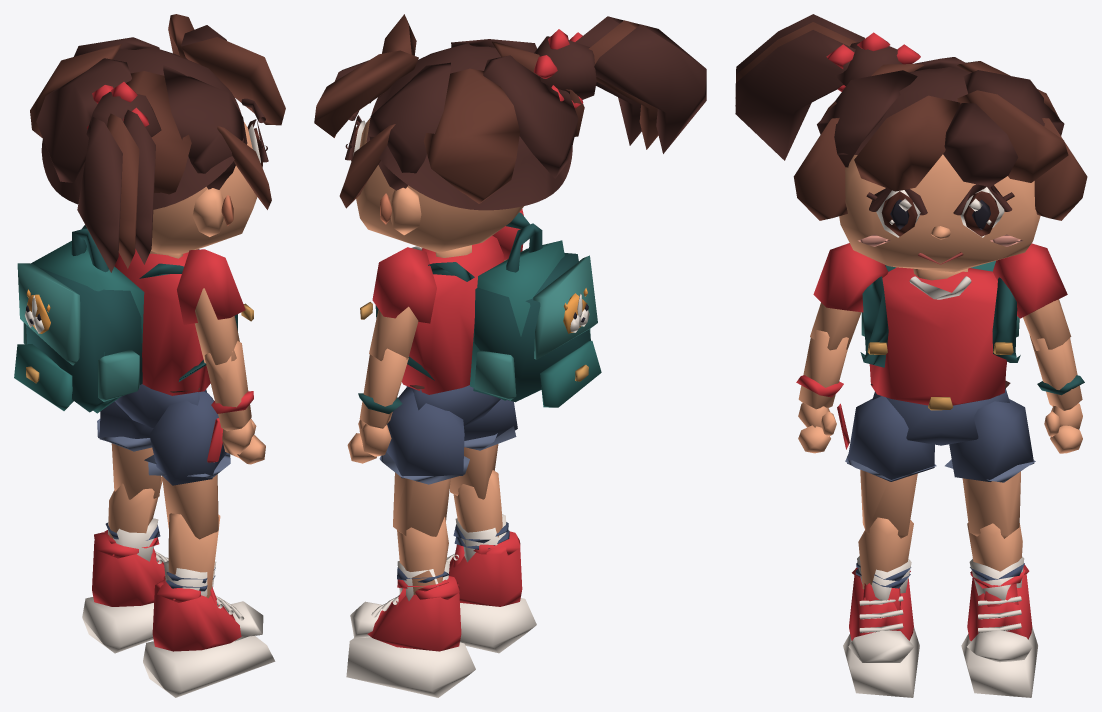
The model's file is char.survivor-female.lod1.glb.
3 renders of one model, left to right at view 1: azimuth 30°, elevation 25°; view 2: azimuth 150°, elevation 25°; view 3: azimuth 270°, elevation 25°, orthographic. The views are drawn at different scales.
Parts seen in each view (by area): view 1: head, footR, torso, legR, backpackSocket.pal_tealDark, footL, backpackSocket.pal_tealLight, armR, backpackSocket.pal_backpackTeal, legL, shinR, shinL (+4 smaller); view 2: head, footL, torso, legL, footR, backpackSocket.pal_tealDark, backpackSocket.pal_backpackTeal, armL, backpackSocket.pal_tealLight, legR, shinR, shinL (+3 smaller); view 3: head, torso, legL, legR, footR, footL, armL, armR, hip, shinR, shinL, foreArmR (+3 smaller).
Boxes of the visible parts, box(x1,y1,x2,y2) form: head: box(30, 14, 285, 272); footR: box(143, 576, 275, 697); torso: box(81, 225, 253, 395); legR: box(144, 391, 230, 539); backpackSocket.pal_tealDark: box(26, 228, 142, 412); footL: box(82, 532, 168, 653); backpackSocket.pal_tealLight: box(17, 263, 139, 401); armR: box(177, 249, 245, 364); backpackSocket.pal_backpackTeal: box(14, 241, 144, 413); legL: box(97, 401, 161, 499); shinR: box(164, 513, 220, 598); shinL: box(104, 477, 162, 561); head: box(314, 14, 706, 257); footL: box(346, 576, 475, 697); torso: box(360, 212, 530, 394); legL: box(379, 387, 469, 536); footR: box(446, 531, 536, 653); backpackSocket.pal_tealDark: box(473, 223, 590, 402); backpackSocket.pal_backpackTeal: box(470, 240, 601, 407); armL: box(369, 247, 436, 360); backpackSocket.pal_tealLight: box(474, 255, 597, 400); legR: box(449, 399, 517, 499); shinR: box(453, 470, 509, 562); shinL: box(397, 517, 449, 600); head: box(735, 14, 1087, 280); torso: box(860, 267, 1020, 405); legL: box(945, 399, 1035, 538); legR: box(845, 396, 936, 538); footR: box(843, 567, 919, 697); footL: box(961, 564, 1037, 697); armL: box(992, 243, 1071, 350); armR: box(810, 243, 888, 350); hip: box(837, 381, 1010, 449); shinR: box(855, 517, 913, 600); shinL: box(967, 523, 1025, 600); foreArmR: box(796, 329, 848, 409).
Bounding box in the file's own units: 0.7785 × 1.8 × 0.9492.
